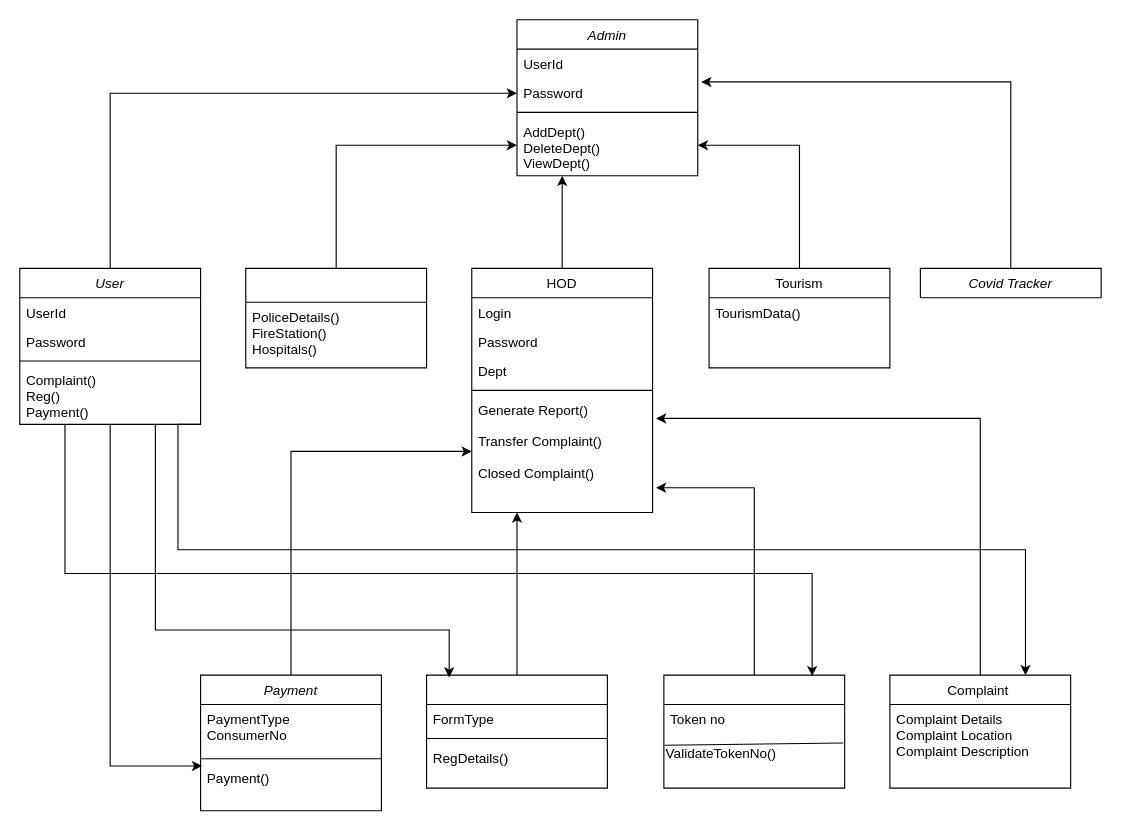
This 1121x831 diagram has some shape labels left out. Each missing label, with the box of its shape:
Complaint Tracker: (663, 674, 845, 788)
NearBy: (245, 267, 427, 368)
Registration Forms: (425, 674, 607, 788)
